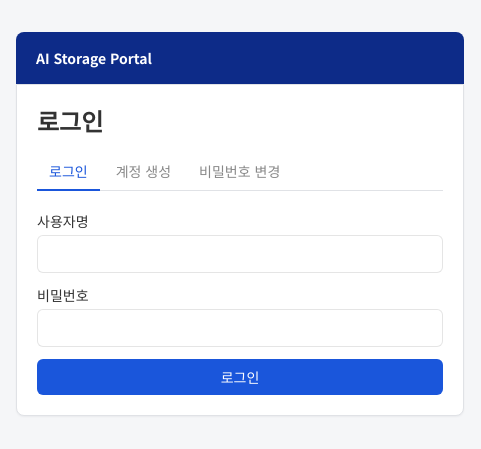
Test: submits credentials and shows error on 401
Type "alice" into the field labelled "사용자명" at (240, 254), box [37,235,443,273]
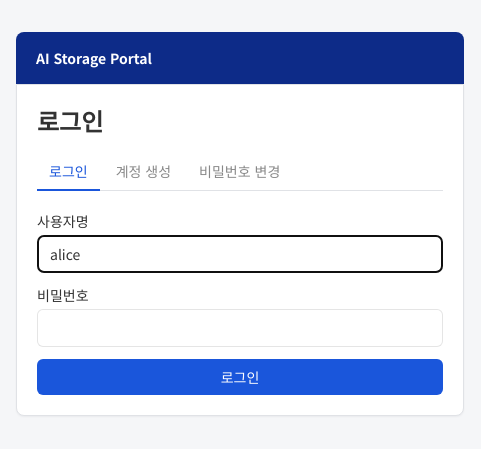
Type "bad" into the password field labelled "비밀번호" at (240, 328), box [37,309,443,347]
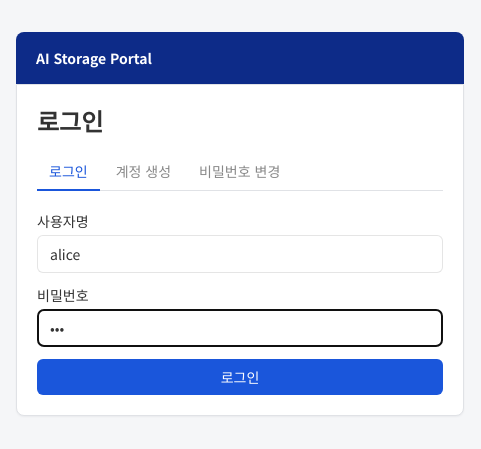
Click the button "로그인" at (240, 377), box [37,359,443,395]
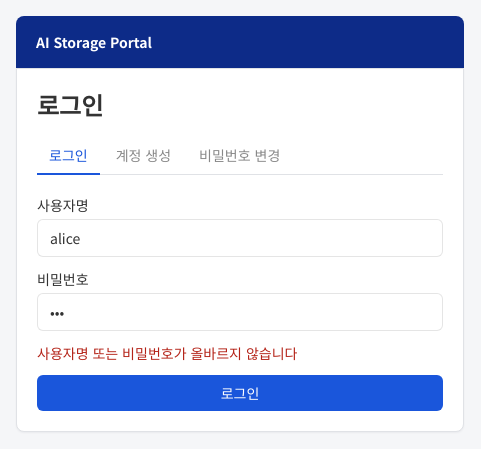
Now the text "사용자명 또는 비밀번호가 올바르지 않습니다" is shown, box [37,343,297,363]
